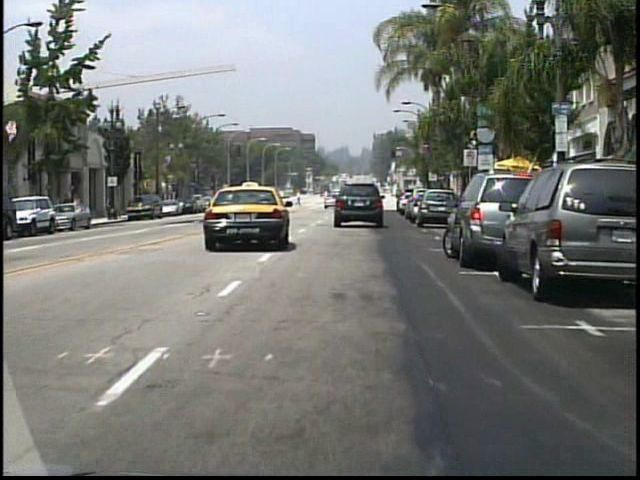person: (63, 190, 76, 222), (74, 192, 85, 222), (295, 190, 303, 208)
